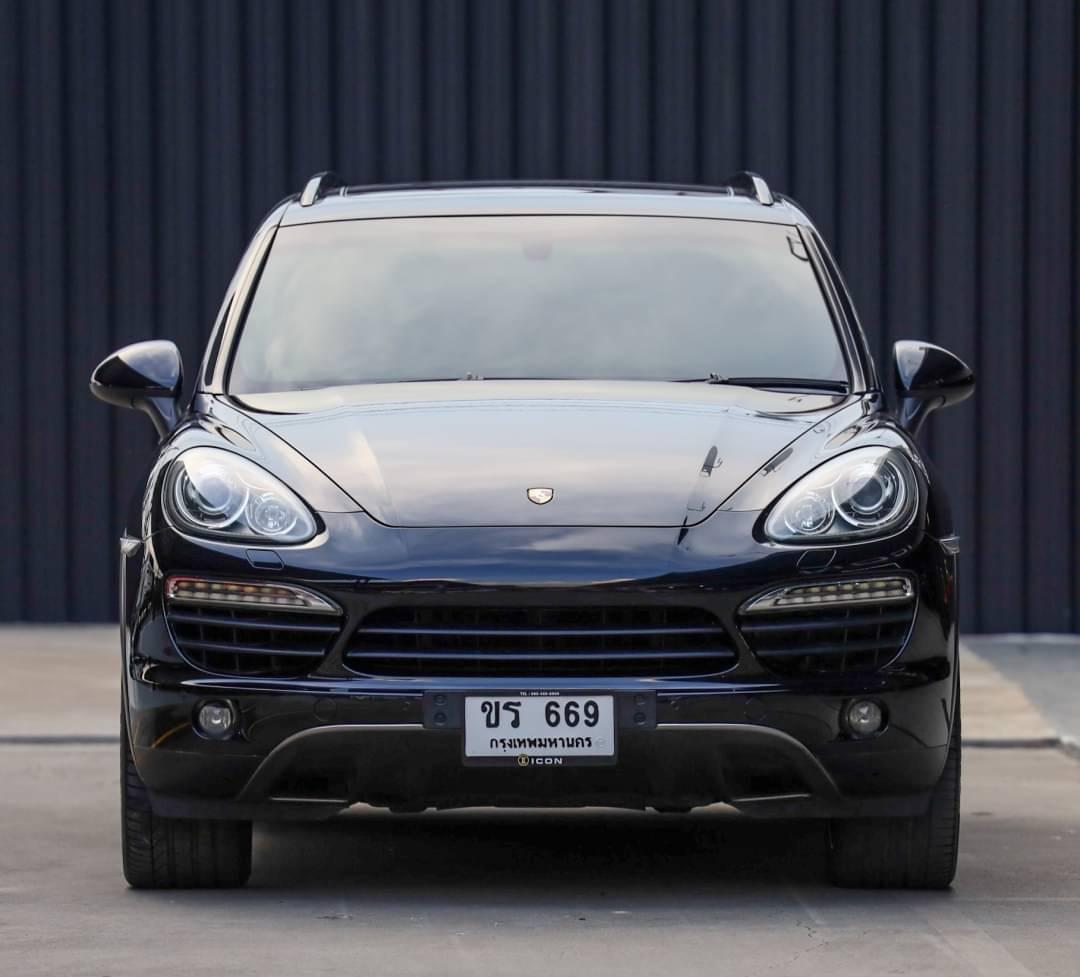license-plate: (461, 689, 619, 769)
